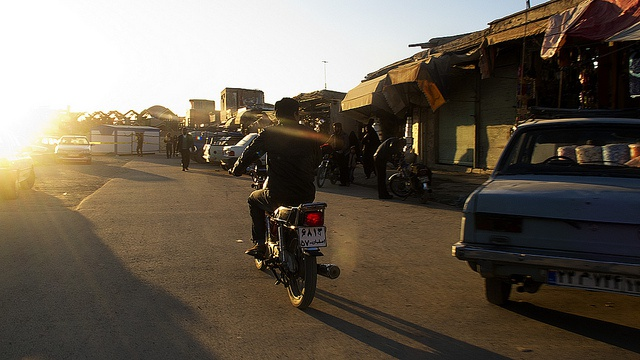non-vehicle: (230, 165, 340, 311), (388, 150, 432, 204), (316, 146, 354, 187)
